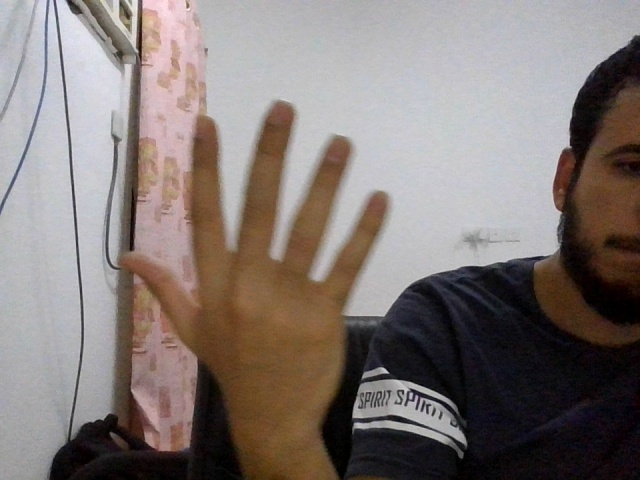Five: (117, 96, 392, 435)
